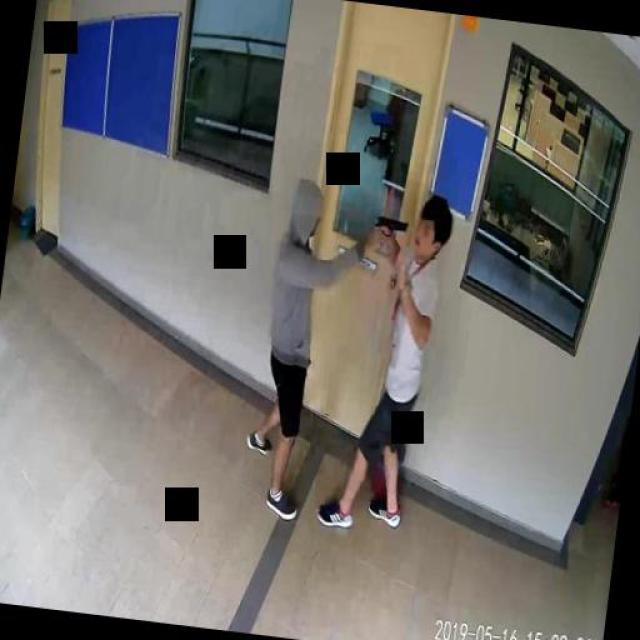gun: (372, 212, 408, 252)
